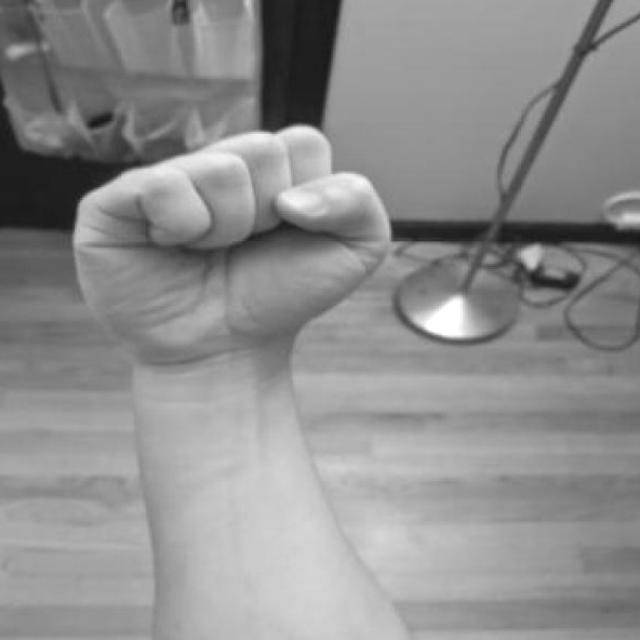S: (76, 123, 409, 419)
